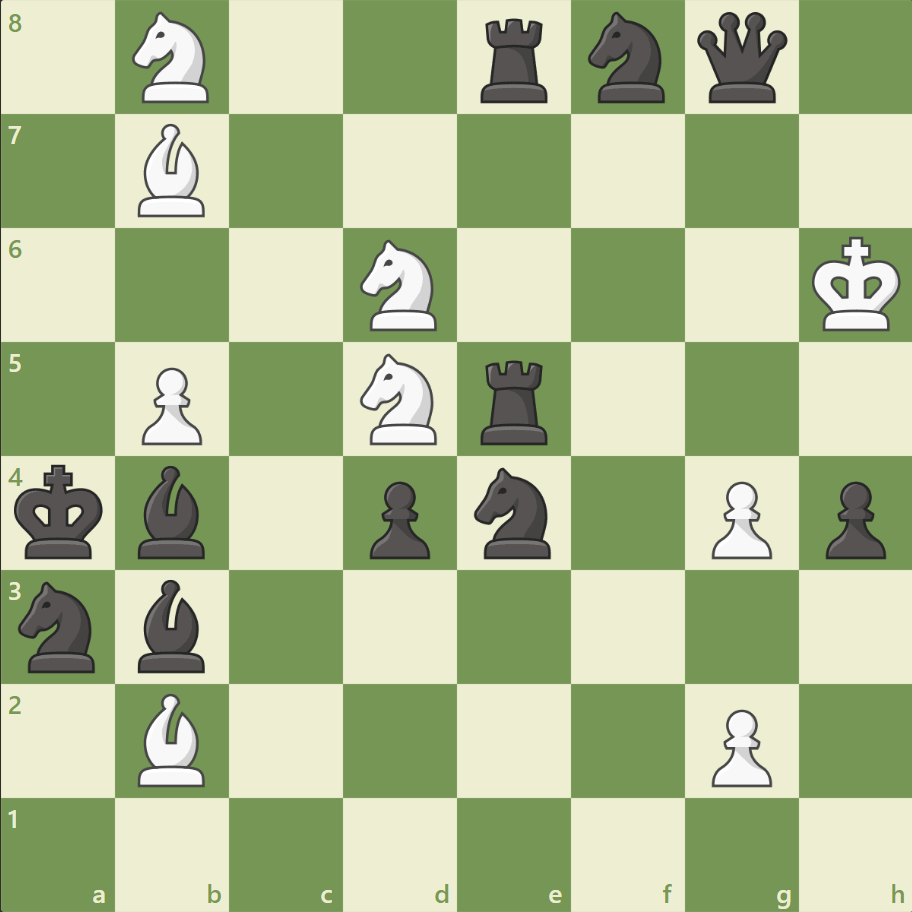B: (131, 687, 215, 790), (131, 120, 215, 222)
K: (806, 231, 906, 339)
N: (124, 7, 222, 110), (351, 234, 449, 337), (351, 348, 449, 450)
P: (133, 359, 208, 450), (701, 473, 776, 564), (701, 700, 776, 791)
b: (131, 460, 215, 563), (131, 574, 215, 676)
k: (11, 458, 111, 566)
n: (579, 7, 676, 110), (465, 461, 562, 564), (11, 575, 108, 677)
p: (361, 473, 435, 564), (815, 473, 889, 564)
q: (691, 9, 790, 108)
r: (473, 12, 556, 109), (473, 352, 556, 449)
